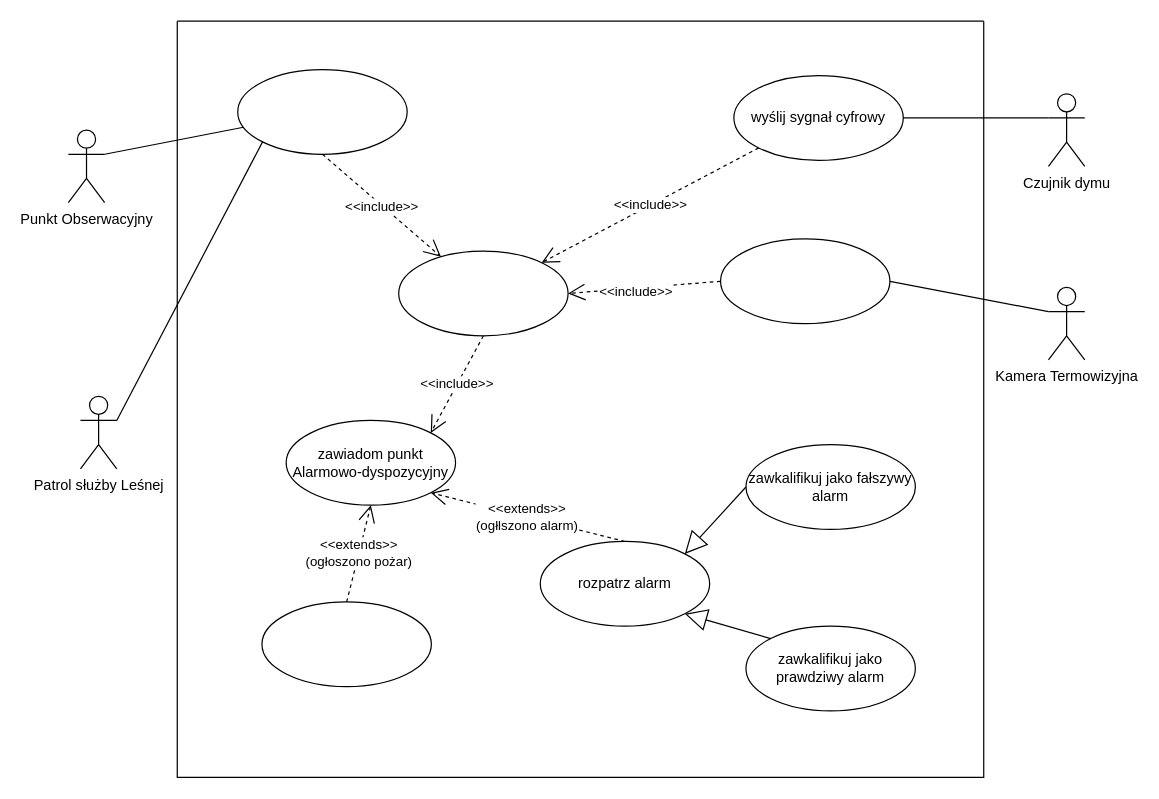
Some shapes in this 1159 by 799 pixel diagram are drawn without their labels. Here are the shapes that lost their labels. From the top down, the box of each, then its label:
(237, 68, 407, 154): dostarcz raport
(397, 250, 568, 336): dostarcz do zbioru danych
(719, 238, 890, 324): wyśliji sygnał optyczny
(261, 601, 431, 687): gaś pożar
